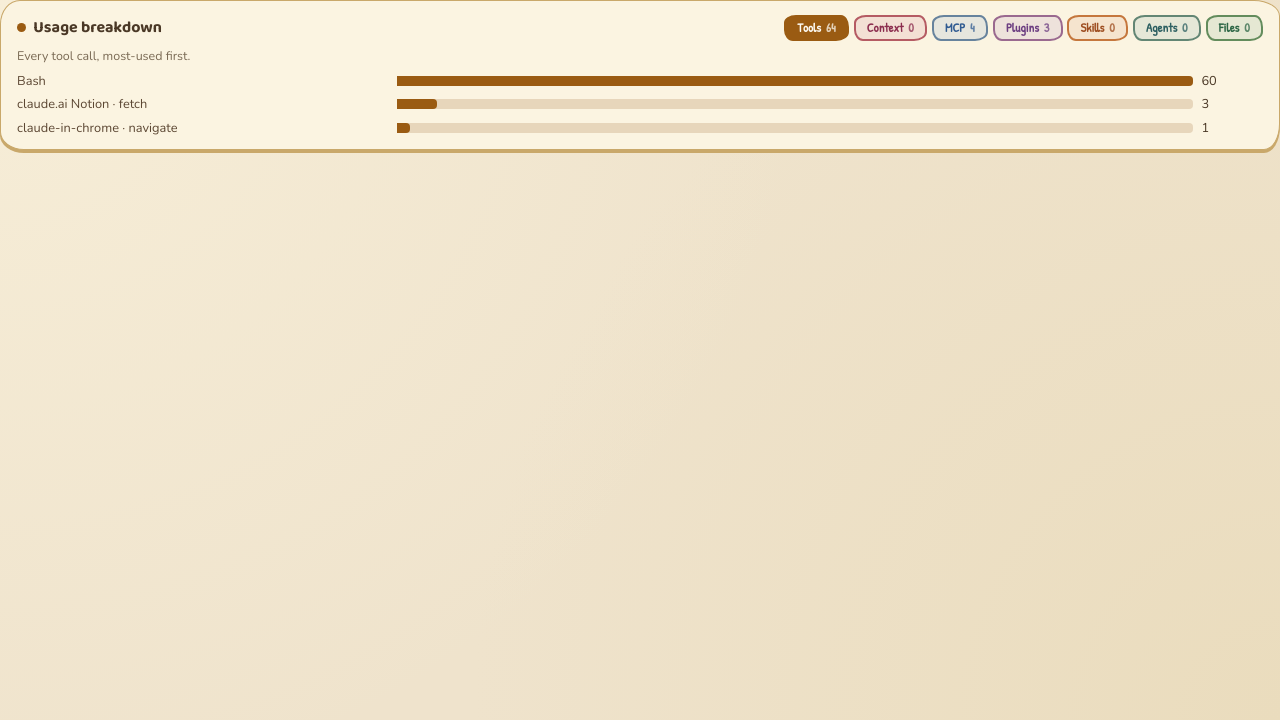
Test: <UsageCallout/> › switches to the MCP breakdown, showing server names in full
The width and height of the screenshot is (1280, 720).
Click the button "MCP 4" at [960, 28], box [932,15,988,41]
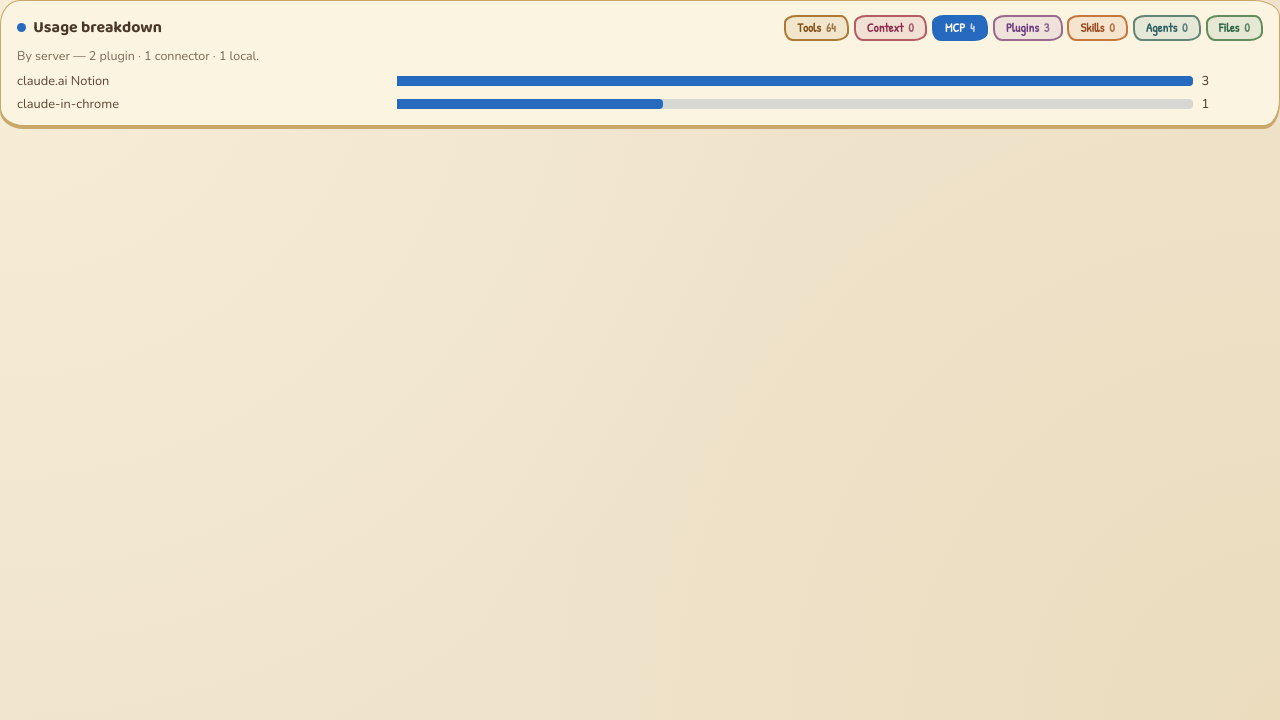
Expected: the text "claude.ai Notion" is shown, [17,72,109,90]
Expected: the text "Bash" is gone
